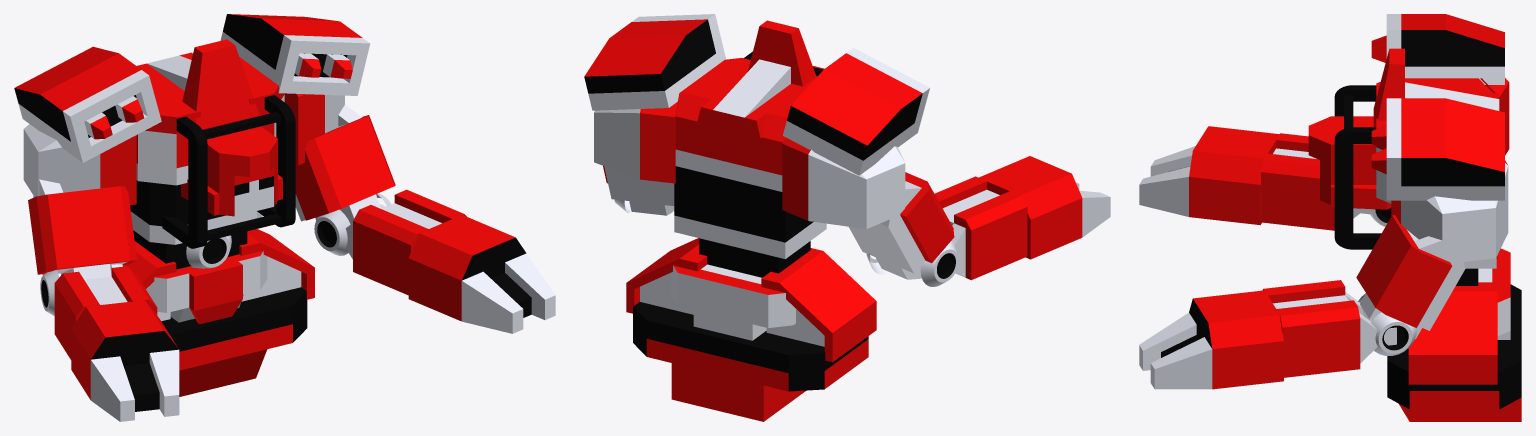
The model's file is Enemy_Robot.fbx.
3 views of the same model, side by side, from view 1: azimuth 30°, elevation 25°; view 2: azimuth 150°, elevation 25°; view 3: azimuth 270°, elevation 25° (orthographic). The views are drawn at different scales.
Parts seen in each view (by area): view 1: foot_doubleWide (×2), weapon_turretSmall (×2), leg_shield (×2), leg_cover (×2), chest_body, pelvis_belt, shoulder_angle (×2), detail_rollbarLarge, foot_top, head_classic, pelvis_shield, pelvis_jointSlant (×2) (+1 smaller); view 2: weapon_turretSmall (×2), chest_body, pelvis_belt, shoulder_angle (×2), pelvis_jointSlant (×2), leg_shield (×2), foot_doubleWide, foot_top, leg_cover, pelvis_shield, detail_ventRound; view 3: foot_doubleWide (×2), weapon_turretSmall (×2), leg_cover (×2), leg_shield, pelvis_jointSlant, pelvis_belt, shoulder_angle (×2), detail_rollbarLarge, head_classic, foot_top, chest_body, pelvis_shield (+1 smaller).
Part boxes in pixels (x1,y1,x2,y2): foot_doubleWide (×2): (71, 215, 555, 421); weapon_turretSmall (×2): (14, 14, 370, 162); leg_shield (×2): (28, 104, 395, 279); leg_cover (×2): (54, 189, 466, 359); chest_body: (130, 57, 284, 269); pelvis_belt: (161, 287, 307, 396); shoulder_angle (×2): (23, 93, 344, 204); detail_rollbarLarge: (162, 95, 295, 248); foot_top: (137, 39, 259, 129); head_classic: (181, 126, 282, 216); pelvis_shield: (146, 250, 267, 324); pelvis_jointSlant (×2): (122, 229, 314, 321); weapon_turretSmall (×2): (584, 14, 929, 175); chest_body: (674, 58, 826, 277); pelvis_belt: (633, 302, 868, 421); shoulder_angle (×2): (594, 92, 905, 229); pelvis_jointSlant (×2): (626, 238, 876, 362); leg_shield (×2): (603, 166, 954, 279); foot_doubleWide: (979, 156, 1110, 259); foot_top: (697, 20, 816, 137); leg_cover: (934, 176, 1027, 280); pelvis_shield: (671, 264, 795, 340); detail_ventRound: (920, 241, 958, 286); foot_doubleWide (×2): (1139, 126, 1283, 389); weapon_turretSmall (×2): (1371, 14, 1504, 200); leg_cover (×2): (1261, 133, 1396, 377); leg_shield: (1356, 215, 1465, 339); pelvis_jointSlant: (1408, 282, 1497, 384); pelvis_belt: (1387, 284, 1521, 421); shoulder_angle (×2): (1391, 78, 1509, 263); detail_rollbarLarge: (1334, 85, 1381, 249); head_classic: (1308, 116, 1391, 209); foot_top: (1373, 48, 1499, 127); chest_body: (1376, 78, 1496, 285); pelvis_shield: (1478, 248, 1510, 339).
Bounding box in the file's own units: 26.7 × 20.4 × 20.65.
